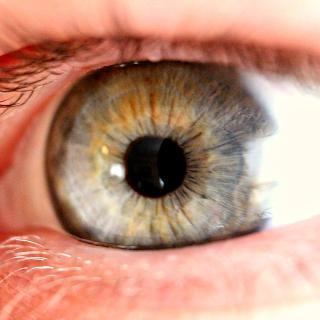iris: (46, 48, 280, 283)
